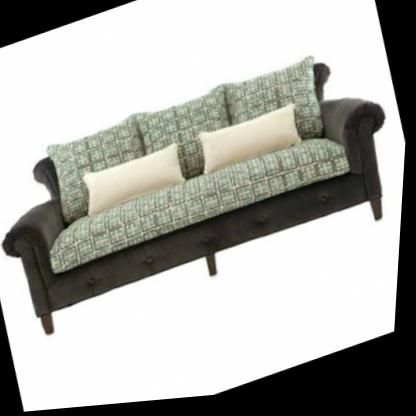Sofa: (0, 36, 411, 349)
